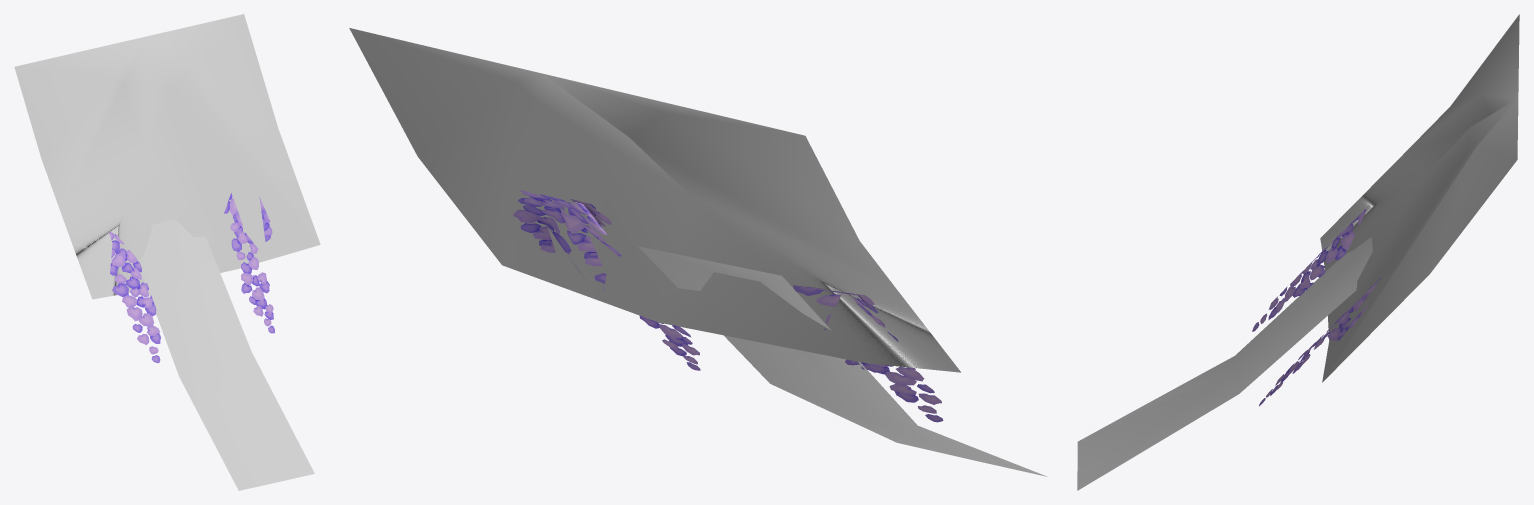
File: SM_Env_Vines_Preset_Roof_Concave_03.fbx
3 views of the same model, side by side, from view 1: azimuth 30°, elevation 25°; view 2: azimuth 150°, elevation 25°; view 3: azimuth 270°, elevation 25° (orthographic). The views are drawn at different scales.
Visible parts, largest first — view 1: SM_Env_Vines_Preset_Roof_Concave_03; view 2: SM_Env_Vines_Preset_Roof_Concave_03; view 3: SM_Env_Vines_Preset_Roof_Concave_03.
Boxes of the visible parts, x1,y1,x2,y2 form: SM_Env_Vines_Preset_Roof_Concave_03: [14, 14, 320, 490]; SM_Env_Vines_Preset_Roof_Concave_03: [349, 28, 1047, 476]; SM_Env_Vines_Preset_Roof_Concave_03: [1077, 14, 1519, 490].
Bounding box in the file's own units: 155 × 201 × 202.
